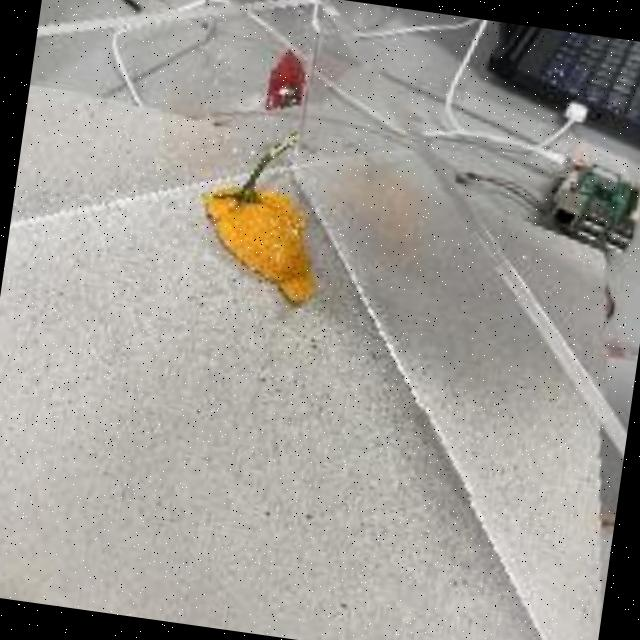orange-peel: (187, 175, 332, 310)
